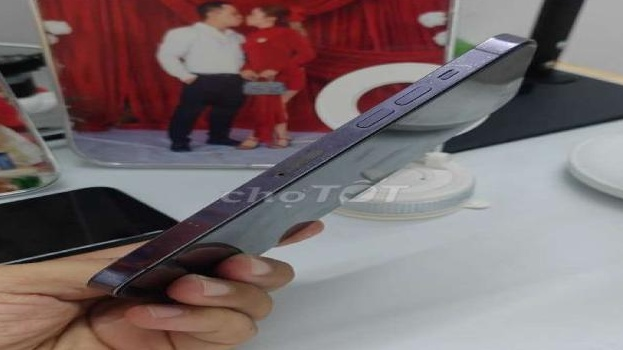scratch: (417, 44, 536, 87), (278, 145, 346, 179), (168, 206, 224, 232)
